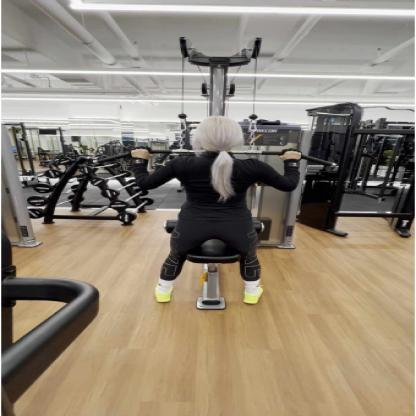Lat Pull Down: (59, 26, 362, 329)
